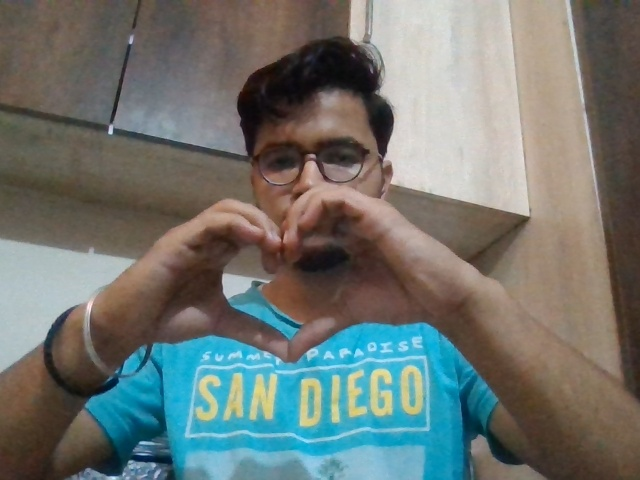iloveyou: (92, 200, 471, 362)
